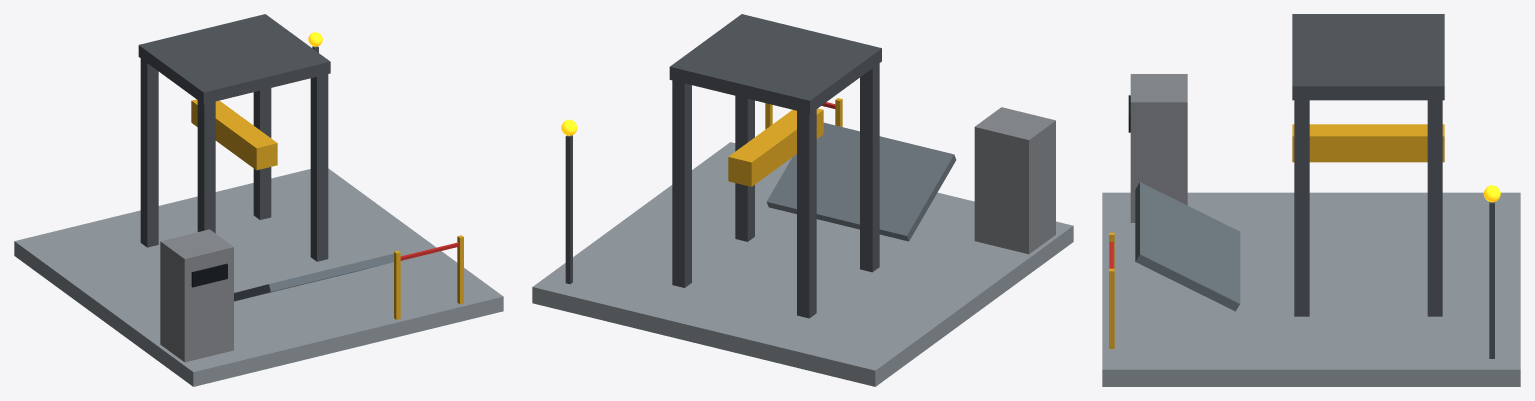
File: equipment--testStand.glb
The picture shows the model from 3 angles, left to right: view 1: azimuth 30°, elevation 25°; view 2: azimuth 150°, elevation 25°; view 3: azimuth 270°, elevation 25°; orthographic projection. The views are drawn at different scales.
Visible parts, largest first — view 1: testStand:shell, frame, controlWindow, deflector, gate; view 2: testStand:shell, frame, controlWindow, deflector, beacon, gate; view 3: testStand:shell, frame, deflector, controlWindow, beacon, gate.
Boxes of the visible parts, x1,y1,x2,y2 form: testStand:shell: (14, 168, 503, 386); frame: (138, 14, 330, 261); controlWindow: (160, 229, 233, 362); deflector: (234, 253, 393, 301); gate: (394, 235, 463, 319); testStand:shell: (532, 142, 1073, 386); frame: (669, 14, 881, 318); controlWindow: (974, 107, 1055, 254); deflector: (766, 122, 956, 241); beacon: (561, 119, 577, 284); gate: (765, 98, 842, 129); testStand:shell: (1102, 192, 1520, 386); frame: (1292, 14, 1444, 316); deflector: (1135, 182, 1240, 311); controlWindow: (1128, 74, 1187, 222); beacon: (1483, 185, 1500, 358); gate: (1109, 232, 1114, 348).
Bounding box in the file's own units: 4.4 × 2.88 × 4.4.
